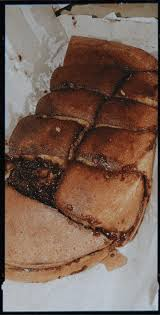Martabak manis: (6, 183, 117, 289), (55, 165, 154, 245), (9, 110, 85, 176), (58, 32, 159, 73), (29, 83, 104, 128), (77, 125, 153, 169), (47, 64, 122, 96), (115, 69, 160, 109), (99, 98, 158, 128)
